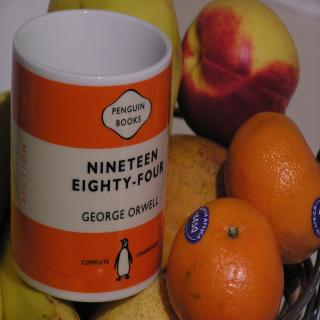Orange: (163, 196, 284, 319), (225, 117, 319, 254)
Peach: (181, 0, 300, 150)
